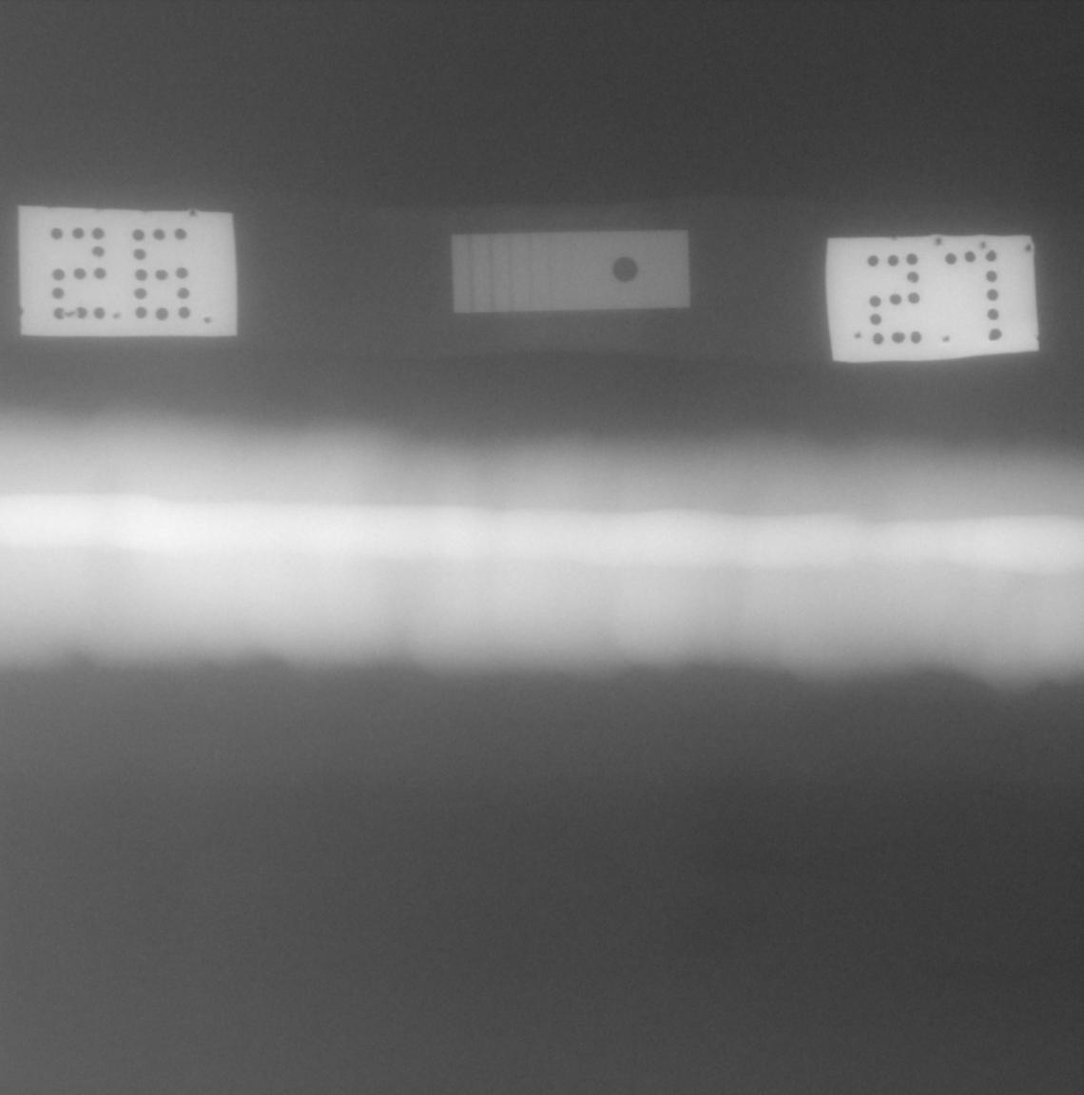Reference Standard 1: (451, 229, 690, 314)
